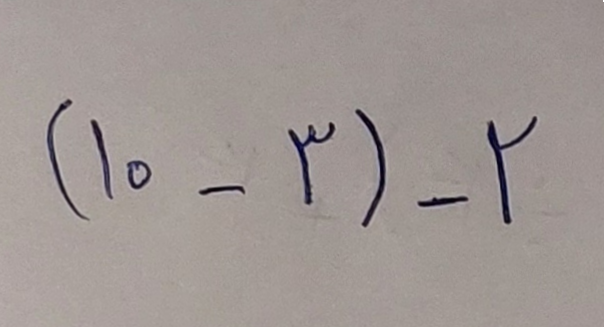character: (47, 99, 98, 234), (485, 114, 539, 225), (350, 108, 391, 233), (288, 122, 334, 205), (89, 115, 114, 200), (416, 193, 472, 213), (123, 158, 152, 191), (193, 185, 250, 196)
